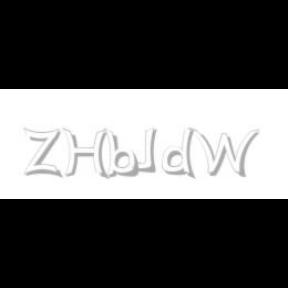H: (62, 128, 108, 180)
J: (132, 128, 156, 172)
W: (188, 128, 260, 178)
Z: (24, 128, 60, 178)
b: (104, 128, 142, 178)
d: (162, 128, 199, 180)
